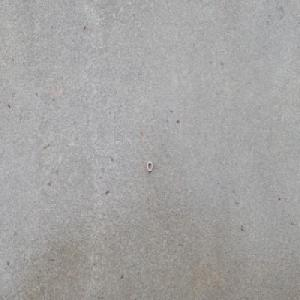Nut: (146, 160, 153, 172)
